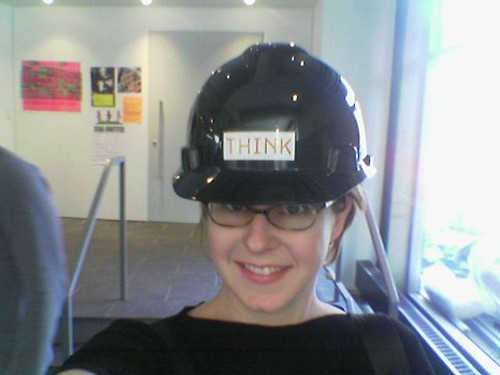person hardhat: (41, 45, 425, 375)
